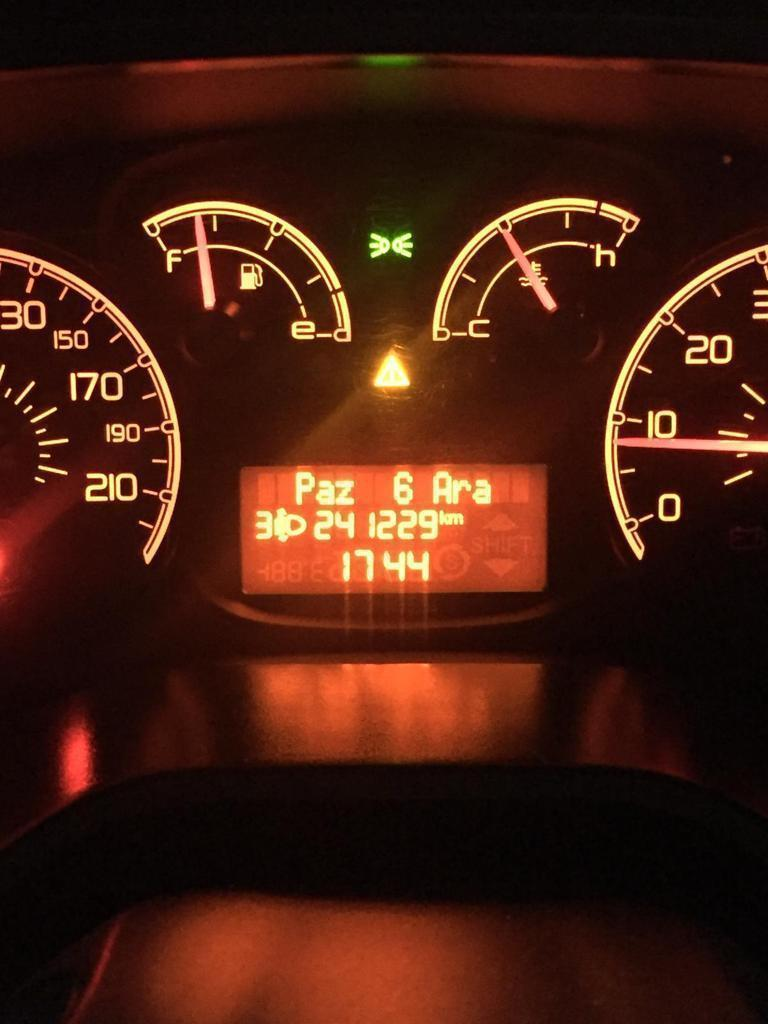1: (339, 548, 351, 583), (365, 509, 376, 539)
2: (312, 509, 334, 541), (376, 508, 396, 540), (397, 508, 417, 540)
3: (254, 509, 272, 540)
4: (381, 548, 406, 583), (406, 548, 431, 582), (335, 509, 356, 540)
6: (391, 469, 414, 506)
7: (352, 546, 375, 583)
9: (417, 507, 439, 540)
X: (293, 470, 315, 506), (431, 468, 452, 505), (335, 478, 357, 505), (471, 477, 492, 505), (316, 478, 335, 506), (452, 477, 471, 505), (448, 512, 464, 526), (439, 507, 448, 526)
odometer: (234, 459, 552, 598)
